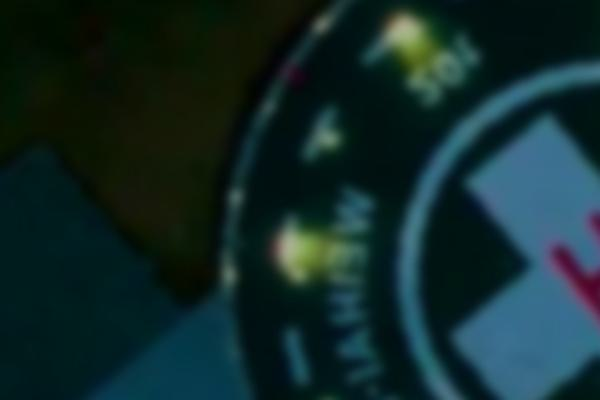Apron: (394, 51, 600, 400)
